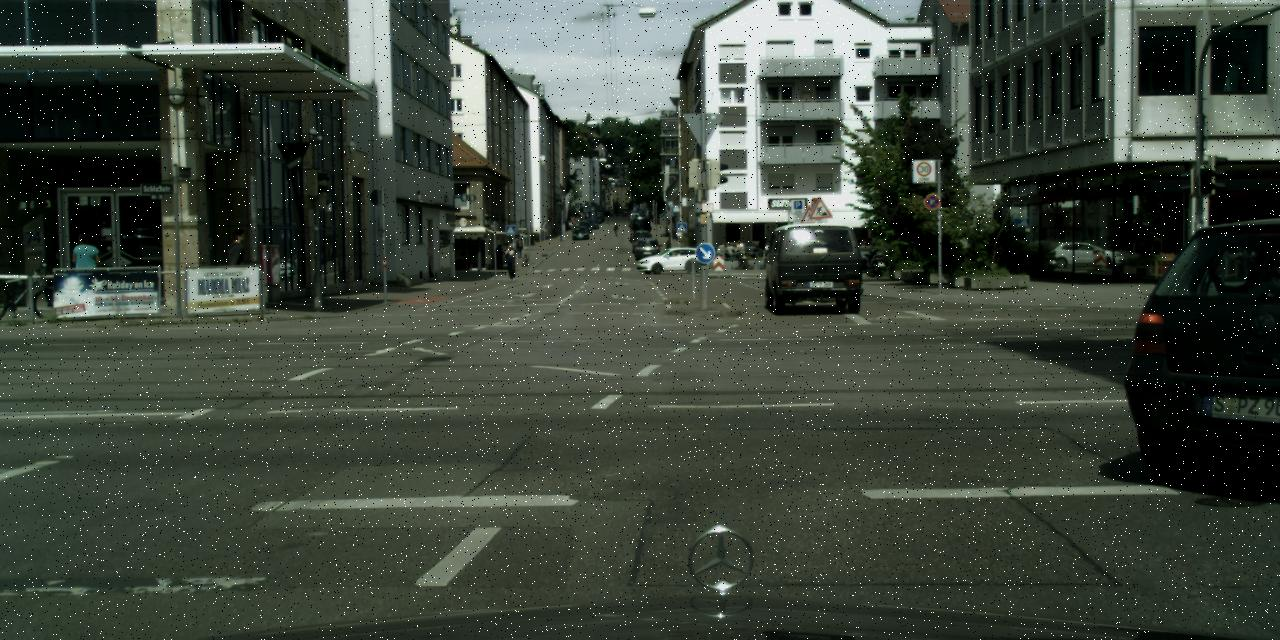ped: (223, 229, 254, 304), (70, 233, 100, 306), (504, 242, 518, 280), (494, 244, 503, 268), (664, 238, 672, 260), (515, 236, 523, 257), (612, 223, 618, 236), (606, 218, 609, 225)
